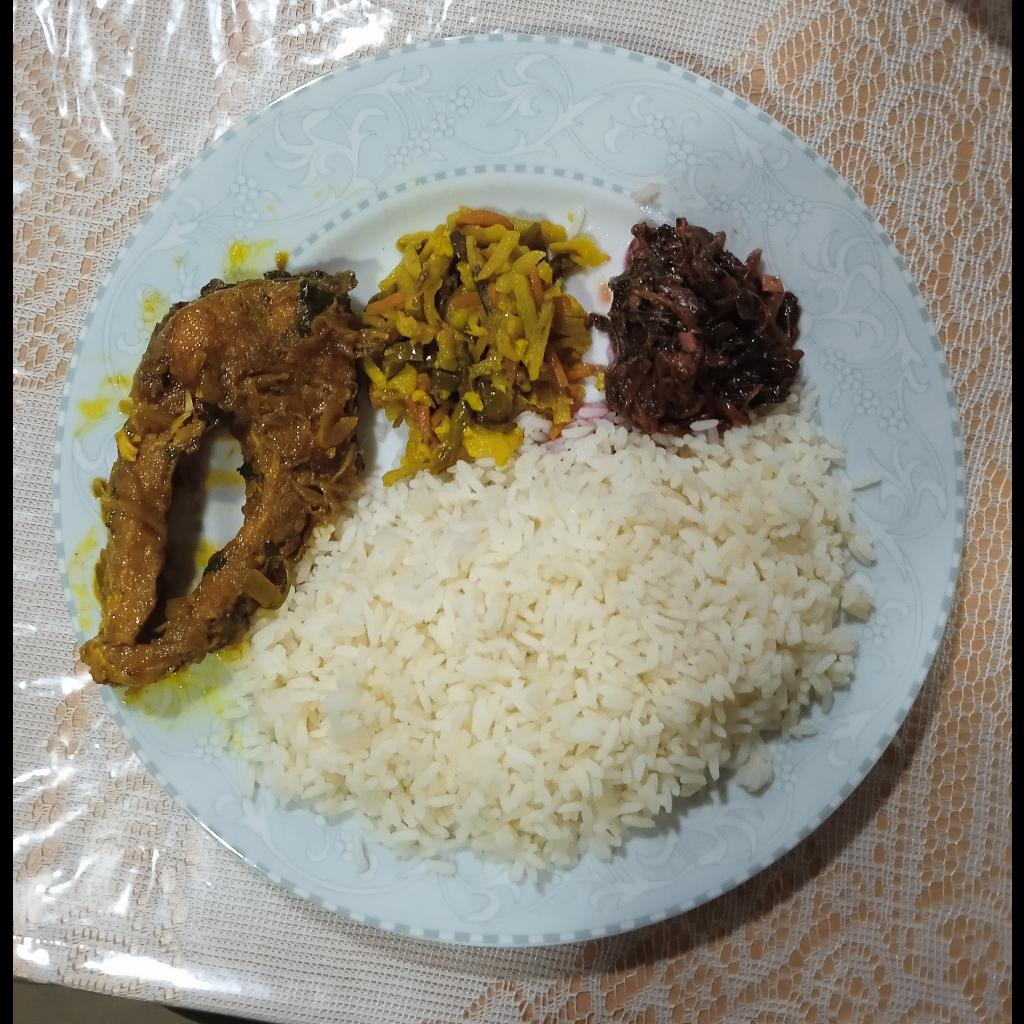fish: (80, 267, 360, 690)
rice: (218, 409, 880, 882)
shak: (605, 222, 804, 436)
vegetable: (361, 206, 607, 489)
